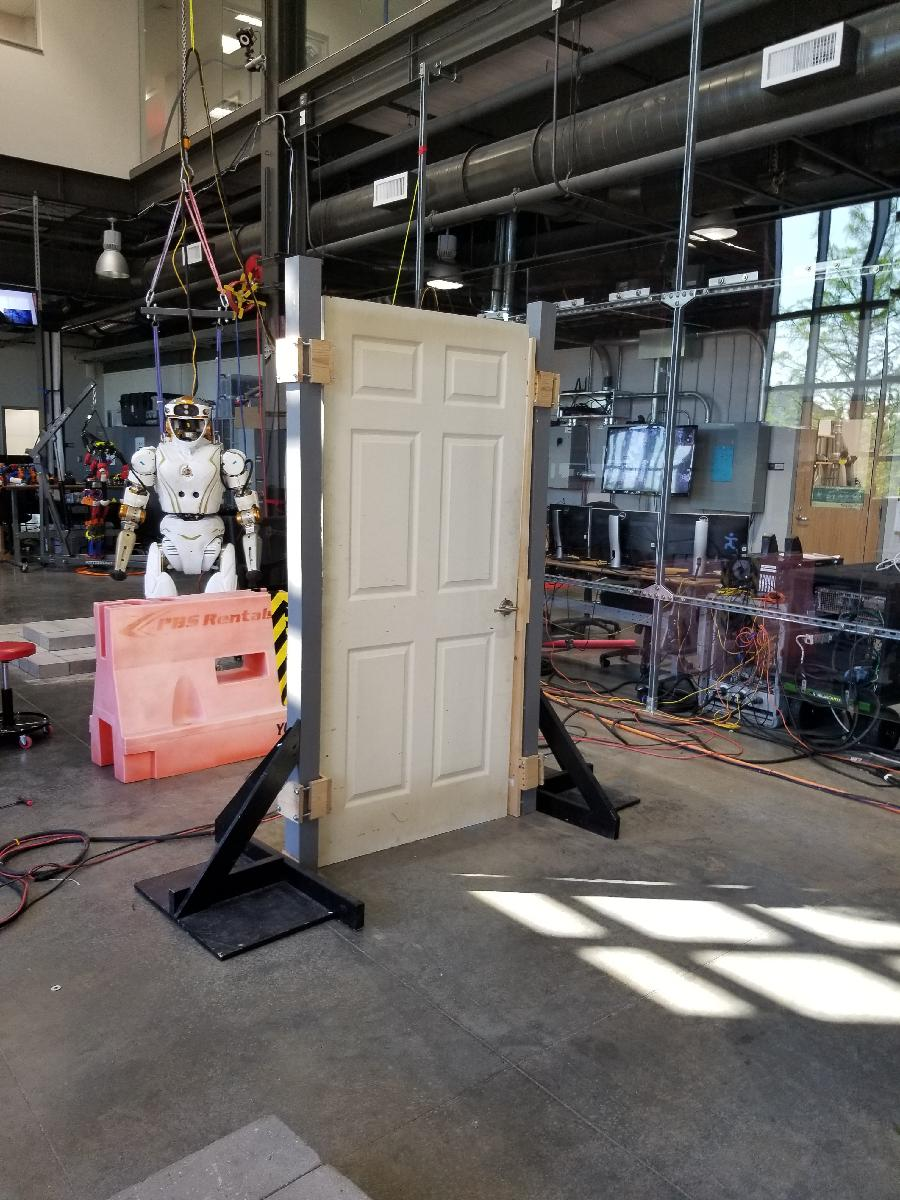door: (313, 291, 529, 873)
doorHandle: (499, 601, 526, 624)
